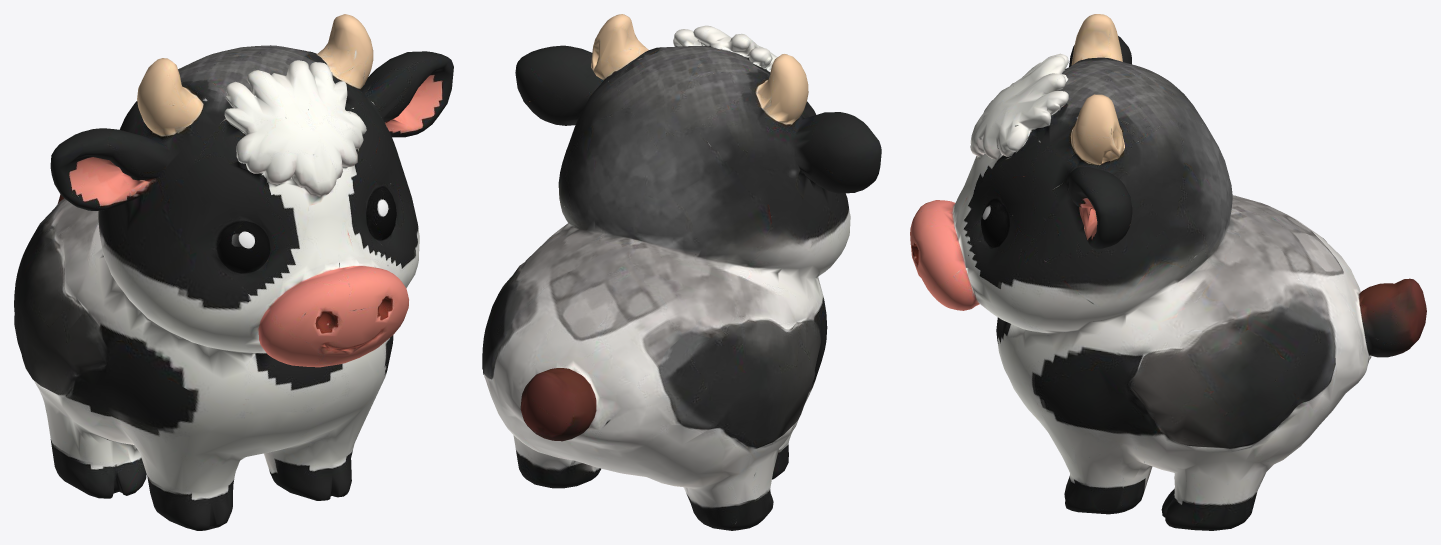
Rendered from cow.glb.
3 renders of one model, left to right at view 1: azimuth 30°, elevation 25°; view 2: azimuth 150°, elevation 25°; view 3: azimuth 270°, elevation 25°, orthographic. The views are drawn at different scales.
Size of the model in its own units: 1.55 by 1.71 by 1.9.
Materials: 1 (1 with a texture image).
